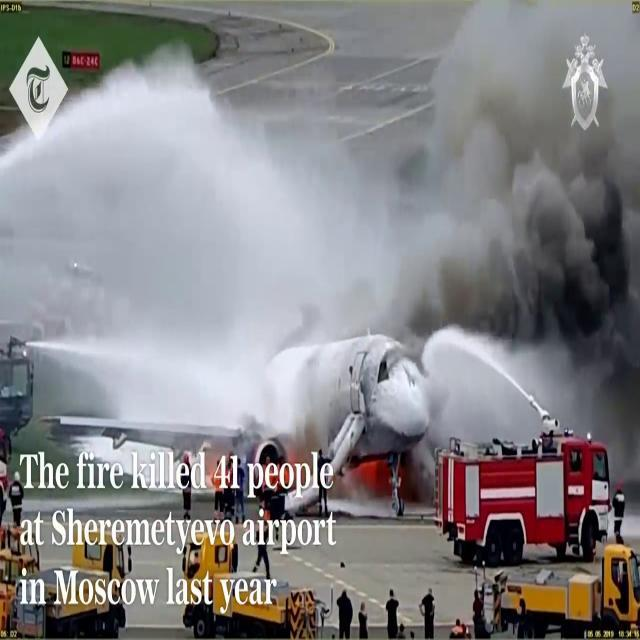Smoke: (11, 7, 638, 421)
